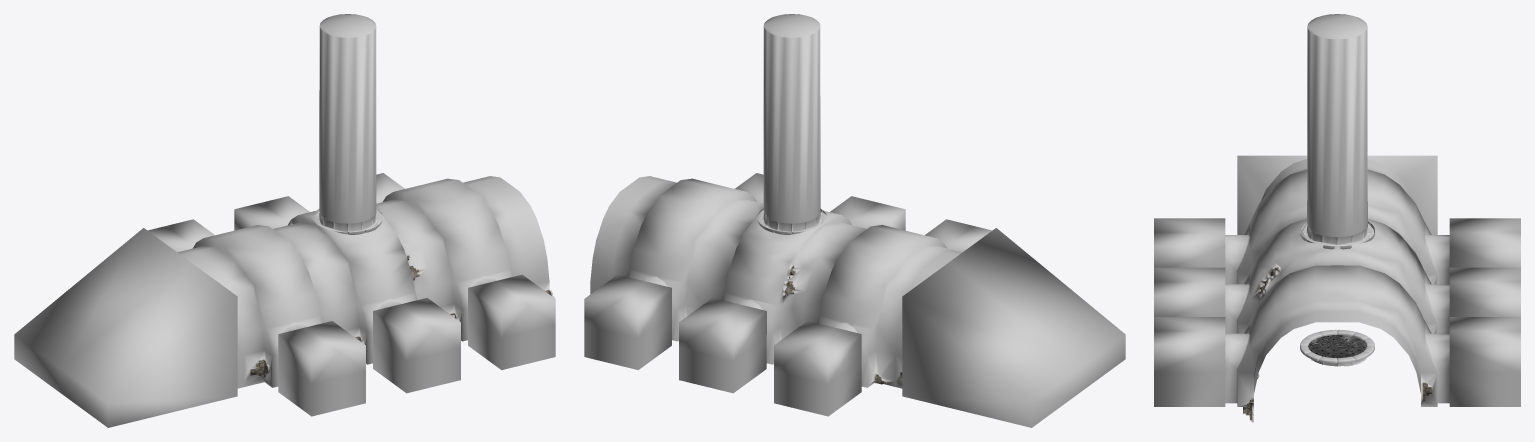
File: SM_DungeonPrison.FBX
The picture shows the model from 3 angles, left to right: view 1: azimuth 30°, elevation 25°; view 2: azimuth 150°, elevation 25°; view 3: azimuth 270°, elevation 25°; orthographic projection. The views are drawn at different scales.
Visible parts, largest first — view 1: SM_DungeonPrison; view 2: SM_DungeonPrison; view 3: SM_DungeonPrison.
Boxes of the visible parts, left/top/right/bottom form: SM_DungeonPrison: left=14, top=14, right=555, bottom=427; SM_DungeonPrison: left=584, top=14, right=1125, bottom=427; SM_DungeonPrison: left=1154, top=14, right=1520, bottom=422.
Size of what is drawn, in the model's own units: 2119 by 1408 by 1390.
